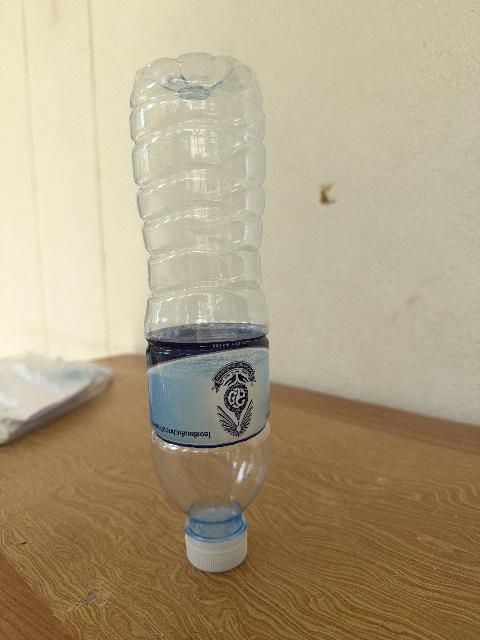bottle: (131, 54, 271, 571)
